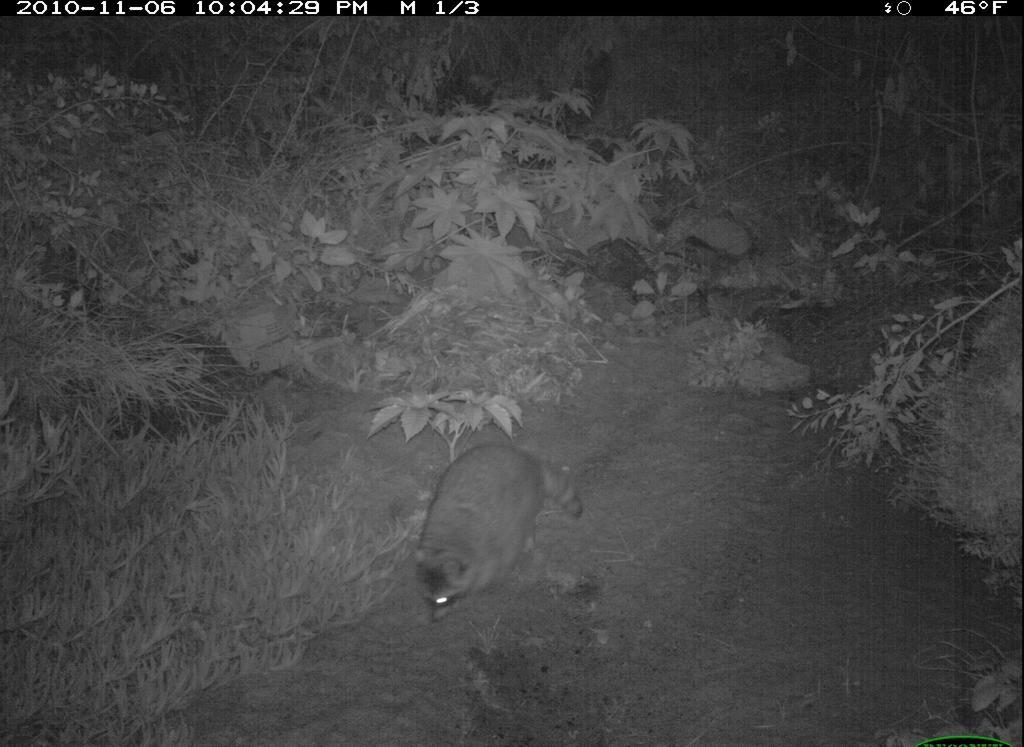raccoon: (410, 440, 583, 624)
